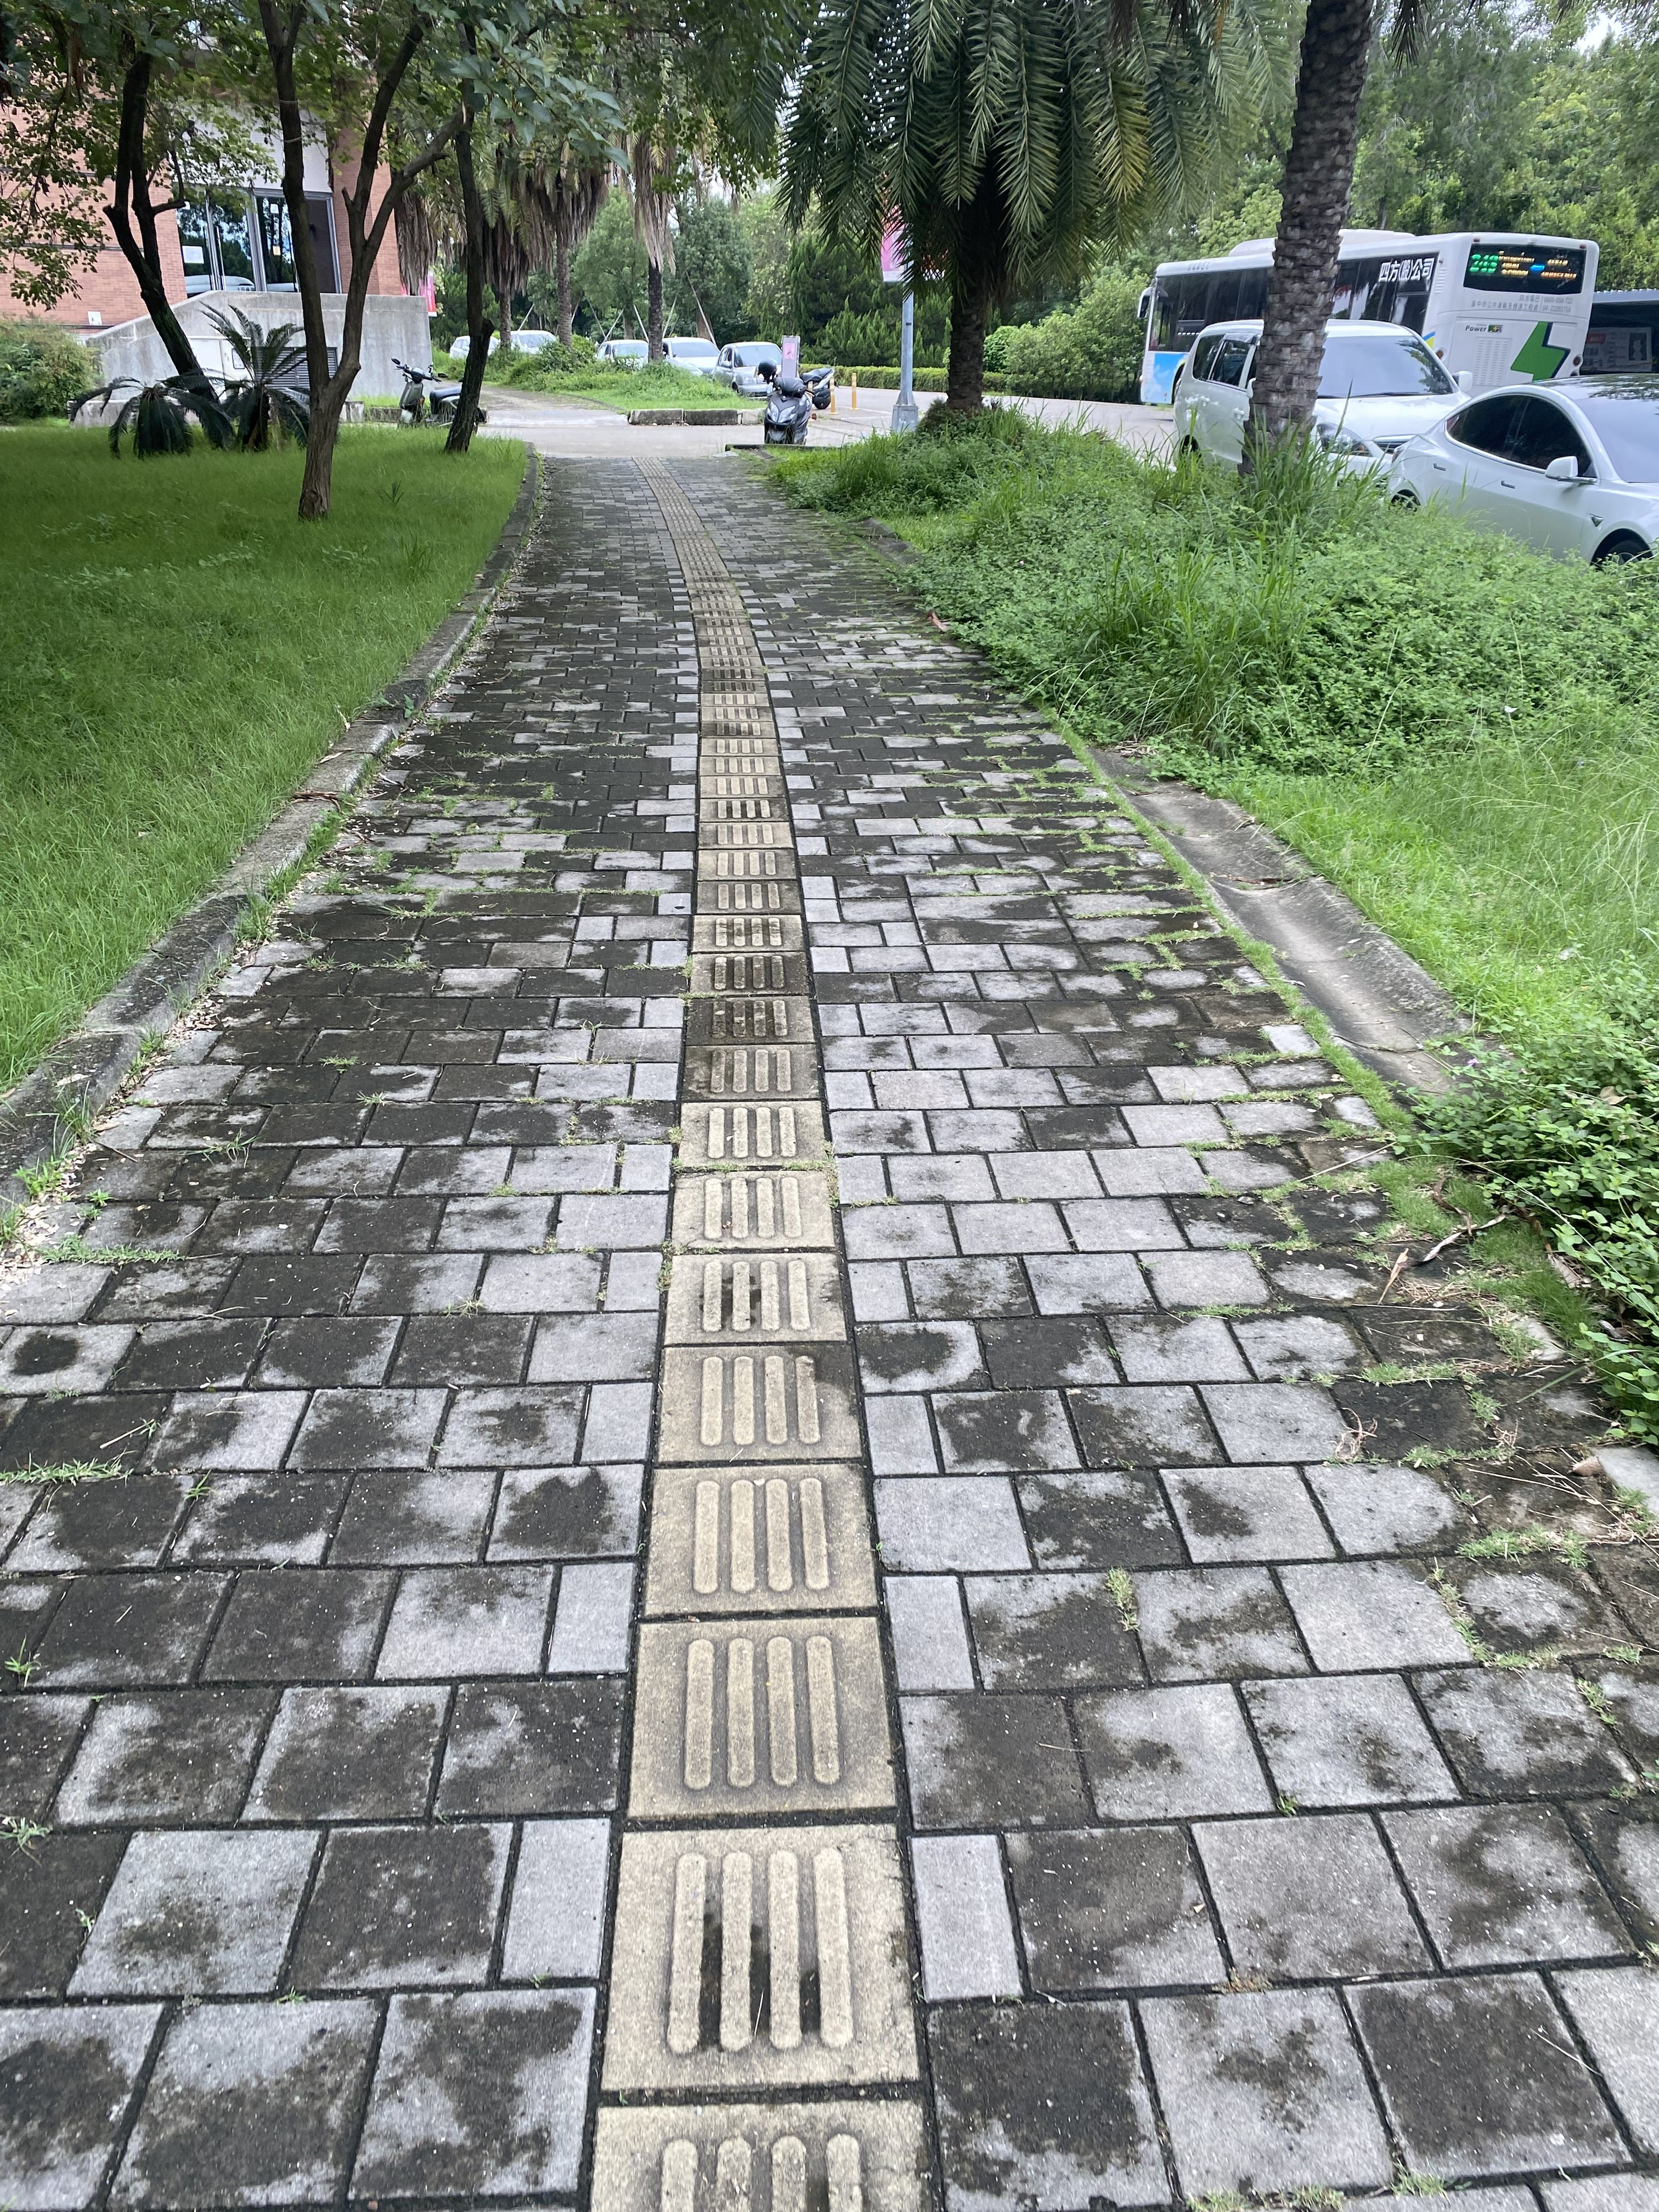sidewalk: (0, 441, 1659, 2212)
